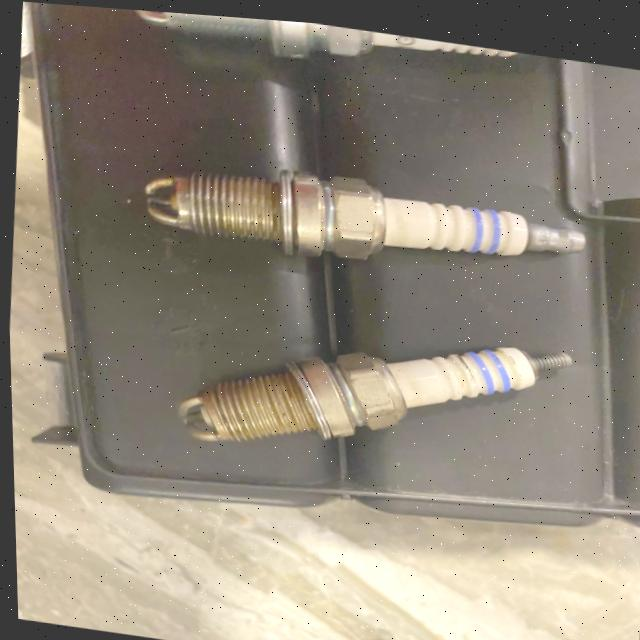spark-plug: (135, 142, 585, 287), (176, 314, 592, 454)
